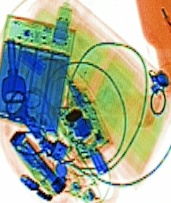powerbank: (1, 12, 77, 135)
